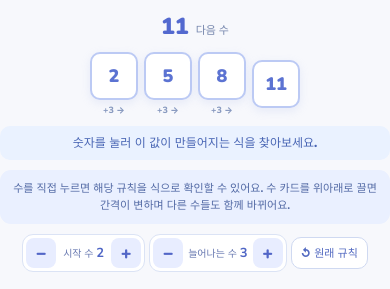
83개 교구 감사에서 발견한 슬라이더 전용 시각화 보완 › 규칙의 수를 직접 클릭하면 해당 값을 만든 식을 보여 준다
Click the button named "2번째 규칙 수 5 선택 및 위아래 드래그" at (168, 76), box [144, 52, 192, 100]
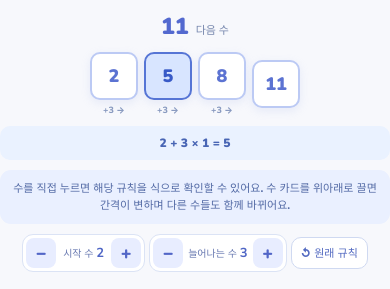
Result: the text "2 + 3 × 1 = 5" is shown at [0, 126, 389, 160]
